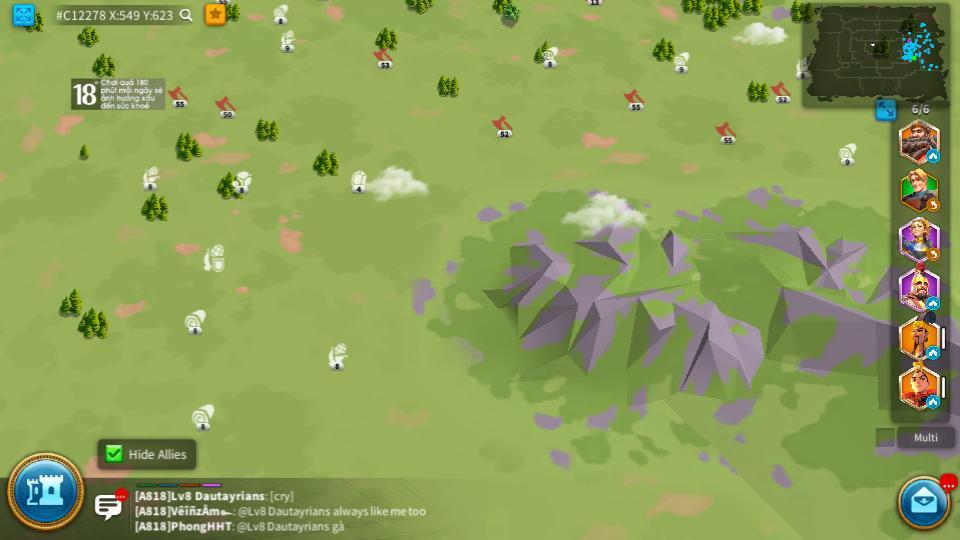gem-z-out: (349, 170, 368, 191)
march_idle: (926, 397, 941, 409), (926, 151, 940, 162), (927, 348, 940, 359), (925, 297, 938, 307)
march_returning: (927, 248, 941, 260), (927, 201, 941, 211)
